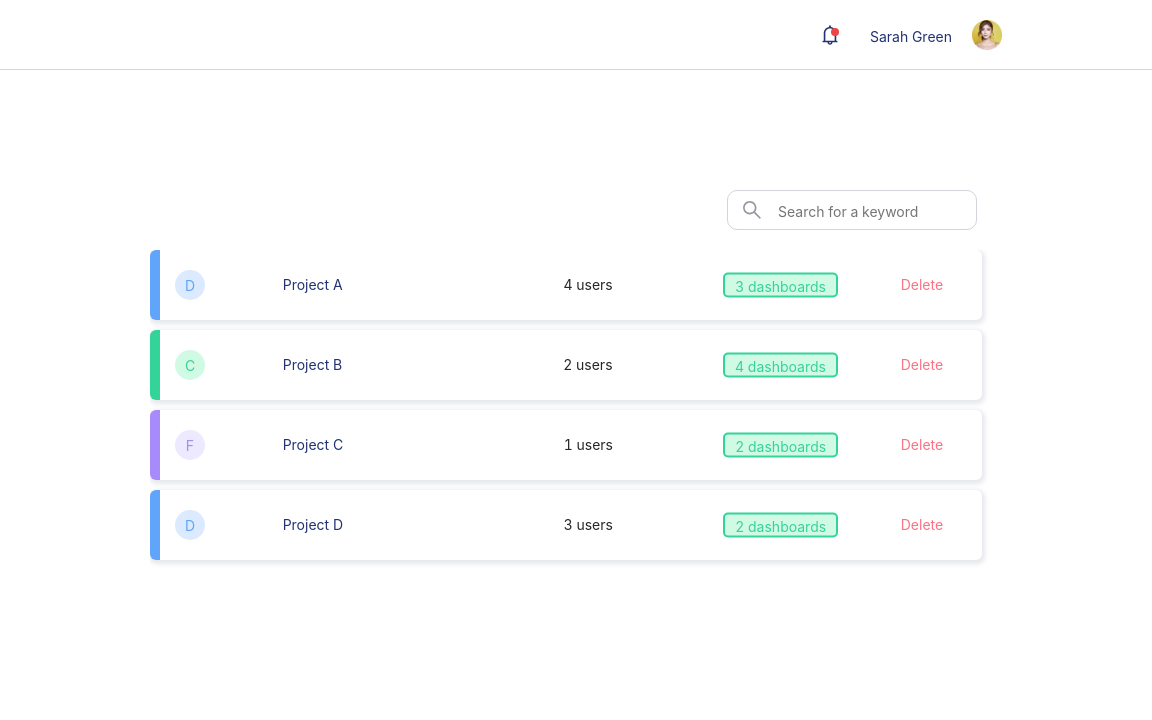
Test: HomeView › should filter projects correctly
The image size is (1152, 720).
Type "B" into the field with placeholder "Search for a keyword" at (852, 210), box x1=727 y1=190 x2=977 y2=230
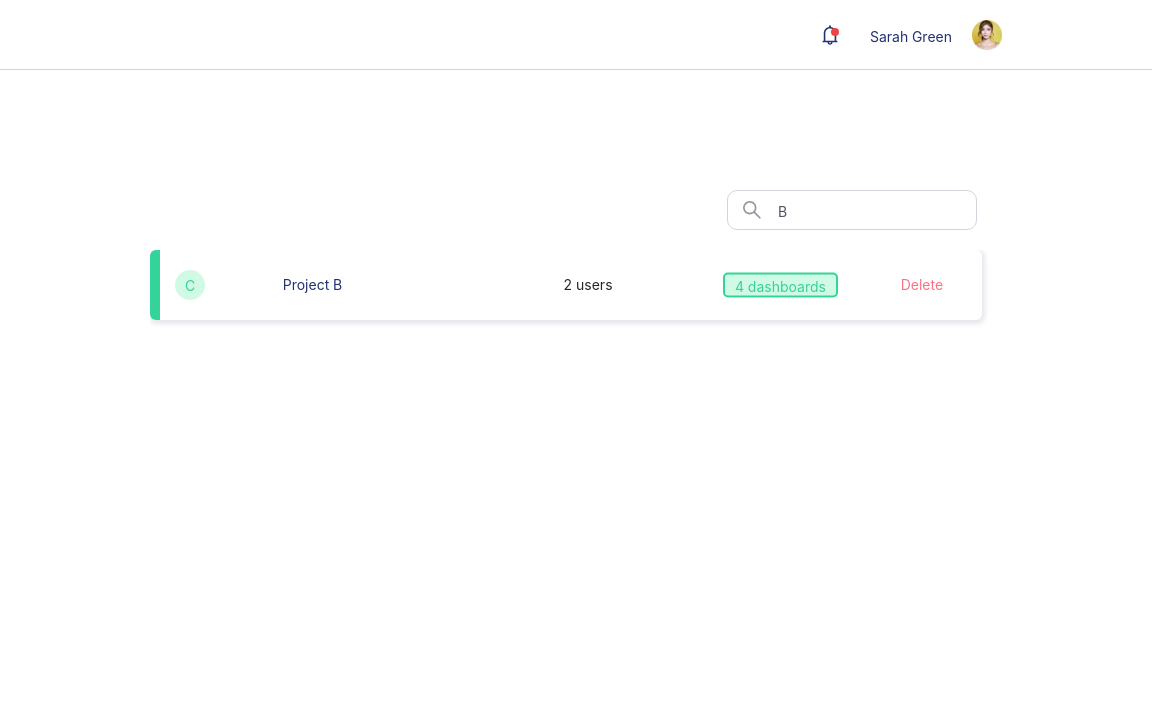
Expected: the element showing "C Project B 2 users 4 dashboards Delete" is shown, x1=150 y1=250 x2=982 y2=320
